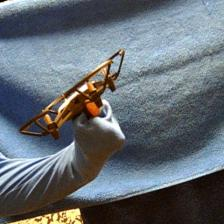drone: (22, 48, 124, 143)
